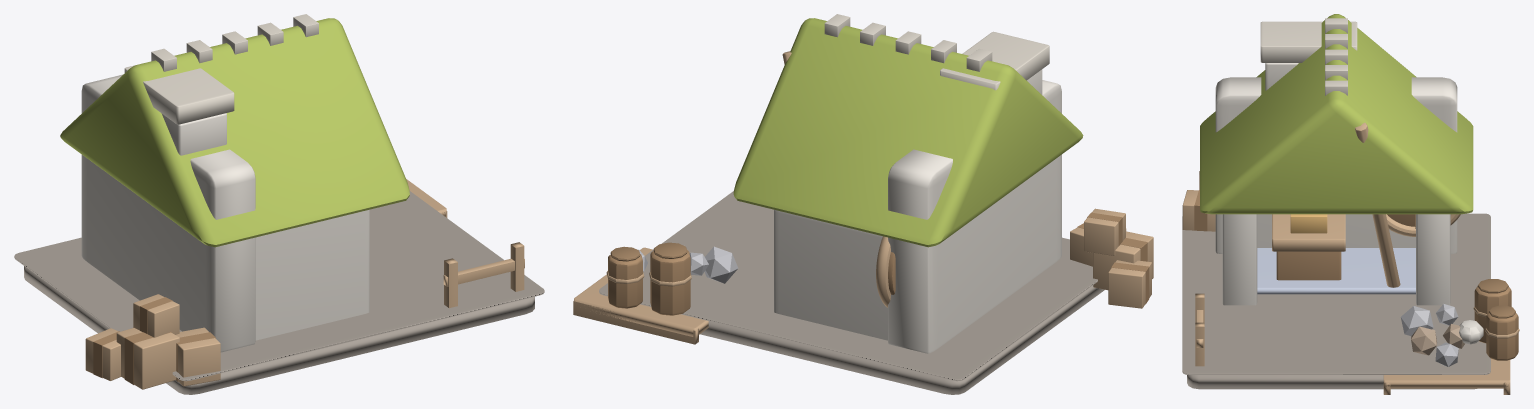
File: schmiede_level_1.glb
3 views of the same model, side by side, from view 1: azimuth 30°, elevation 25°; view 2: azimuth 150°, elevation 25°; view 3: azimuth 270°, elevation 25° (orthographic). The views are drawn at different scales.
Visible parts, largest first — view 1: Roof, PlatformEdge, WallBack, WallLeft, BasePlatform, ChimneyTop, Crate_A, Crate_B, ChimneyBase, Crate_D, Crate_C, FenceRail (+4 smaller); view 2: Roof, WallBack, PlatformEdge, WallRight, BasePlatform, ChimneyTop, Pallet, Barrel_A, Crate_C, Barrel_B, Crate_D, Crate_A (+4 smaller); view 3: Roof, PlatformEdge, WallBack, BlueTrim, WallLeft, WallRight, BasePlatform, ChimneyTop, WorkbenchTop, Pallet, WorkbenchBase, Barrel_B (+15 smaller).
Boxes of the visible parts, x1,y1,x2,y2 form: Roof: [60, 18, 409, 247]; PlatformEdge: [14, 191, 544, 381]; WallBack: [81, 74, 255, 352]; WallLeft: [255, 209, 369, 340]; BasePlatform: [24, 266, 534, 394]; ChimneyTop: [124, 65, 234, 124]; Crate_A: [116, 328, 179, 389]; Crate_B: [176, 327, 220, 386]; ChimneyBase: [161, 113, 226, 155]; Crate_D: [133, 294, 179, 337]; Crate_C: [85, 328, 120, 380]; FenceRail: [443, 258, 524, 286]; Roof: [733, 18, 1083, 247]; WallBack: [888, 80, 1061, 353]; PlatformEdge: [599, 191, 1097, 381]; WallRight: [774, 210, 887, 340]; BasePlatform: [700, 285, 1104, 394]; ChimneyTop: [940, 31, 1049, 90]; Pallet: [574, 247, 708, 336]; Barrel_A: [650, 250, 690, 315]; Crate_C: [1108, 260, 1151, 308]; Barrel_B: [608, 254, 642, 308]; Crate_D: [1084, 208, 1125, 255]; Crate_A: [1093, 231, 1153, 290]; Roof: [1200, 14, 1473, 214]; PlatformEdge: [1182, 213, 1490, 374]; WallBack: [1215, 77, 1457, 253]; BlueTrim: [1257, 248, 1415, 294]; WallLeft: [1222, 214, 1257, 305]; WallRight: [1416, 214, 1450, 305]; BasePlatform: [1187, 375, 1476, 389]; ChimneyTop: [1260, 21, 1357, 62]; WorkbenchTop: [1272, 214, 1345, 251]; Pallet: [1383, 358, 1510, 388]; WorkbenchBase: [1276, 251, 1341, 280]; Barrel_B: [1486, 313, 1518, 360].
Bounding box in the file's own units: 1.94 × 1.15 × 1.47.
